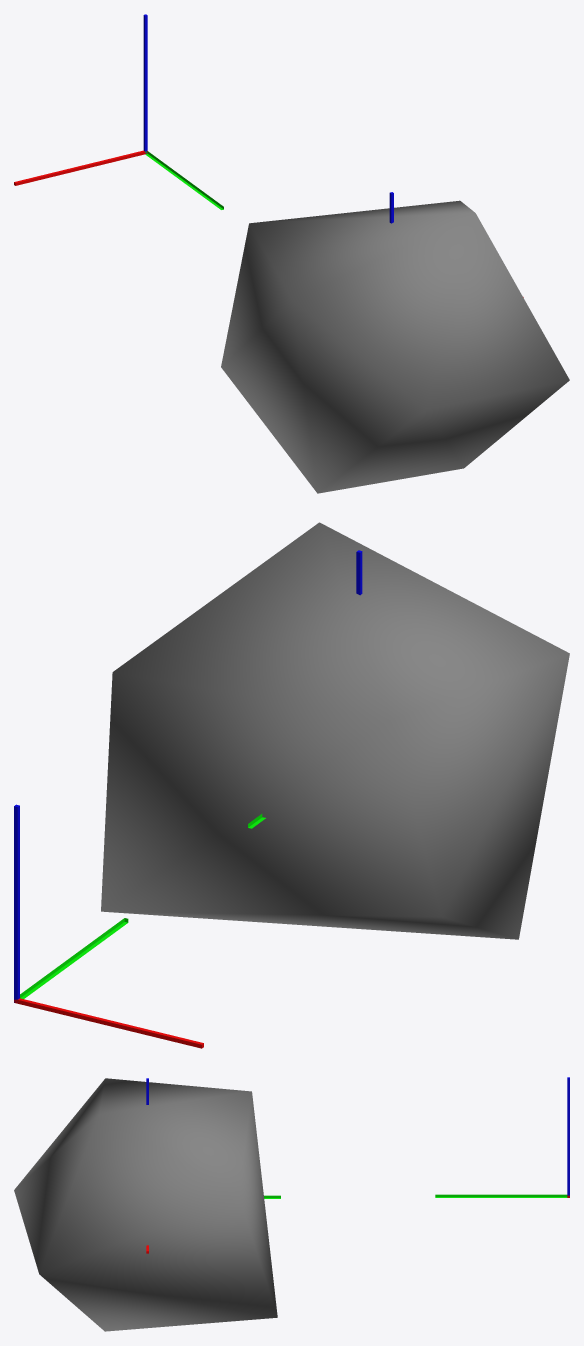
File: catapult-a.glb
3 renders of one model, top to bottom at view 1: azimuth 30°, elevation 25°; view 2: azimuth 150°, elevation 25°; view 3: azimuth 270°, elevation 25°, orthographic. The views are drawn at different scales.
Visible parts, largest first — view 1: cat-aModel, Dummy_fire; view 2: cat-aModel, Dummy_fire; view 3: cat-aModel, Dummy_fire.
Boxes of the visible parts, <box> form: cat-aModel: <box>221,200,569,493</box>; Dummy_fire: <box>14,14,223,209</box>; cat-aModel: <box>101,522,569,939</box>; Dummy_fire: <box>14,804,203,1048</box>; cat-aModel: <box>14,1078,277,1331</box>; Dummy_fire: <box>435,1077,569,1197</box>.
Bounding box in the file's own units: 0.5 × 0.4863 × 1.05.
2 materials, 1 textured.
